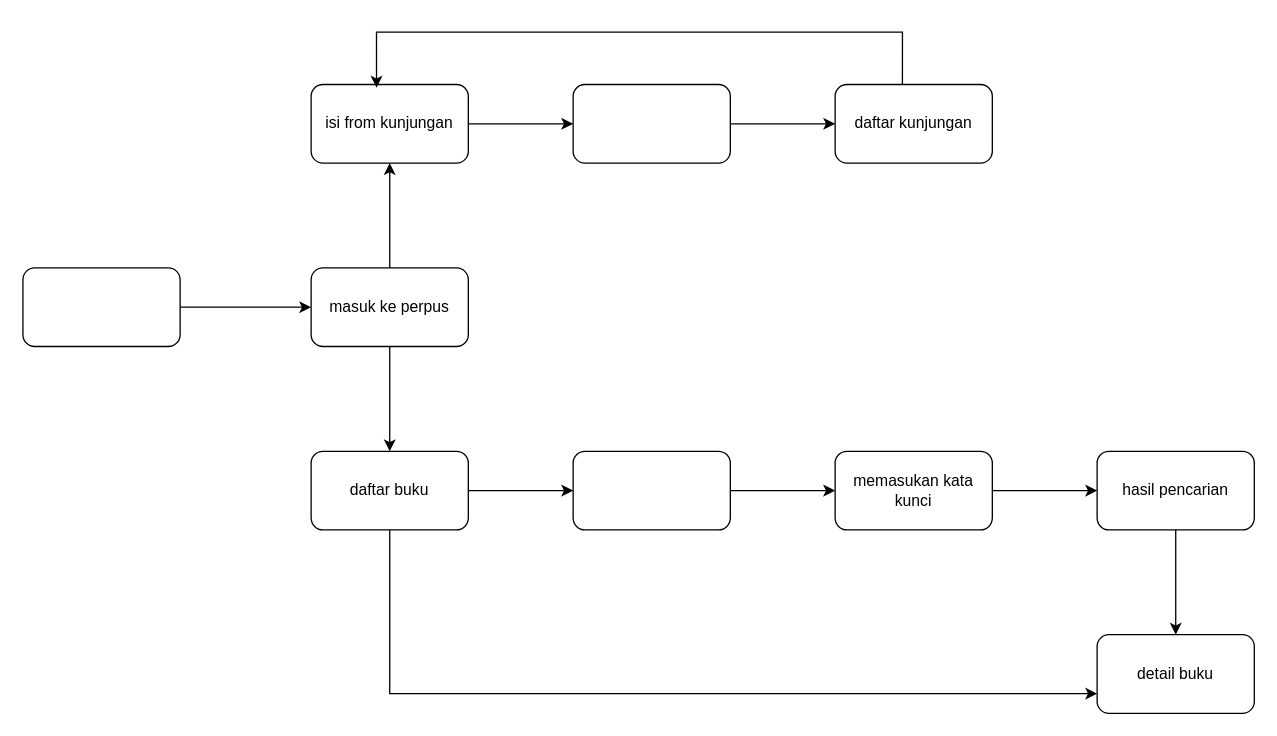
Image size: 1277x736. Some labels were removed from this diagram. Here are the shapes that lost their labels. From the top down, the centre of each, then its label:
At pixel 651 123: "kirim".
At pixel 101 306: "user/pengunjung perpus".
At pixel 651 490: "pencarian".
